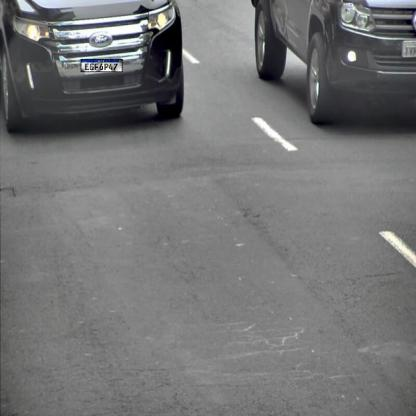PlacaM: (80, 59, 122, 72)
